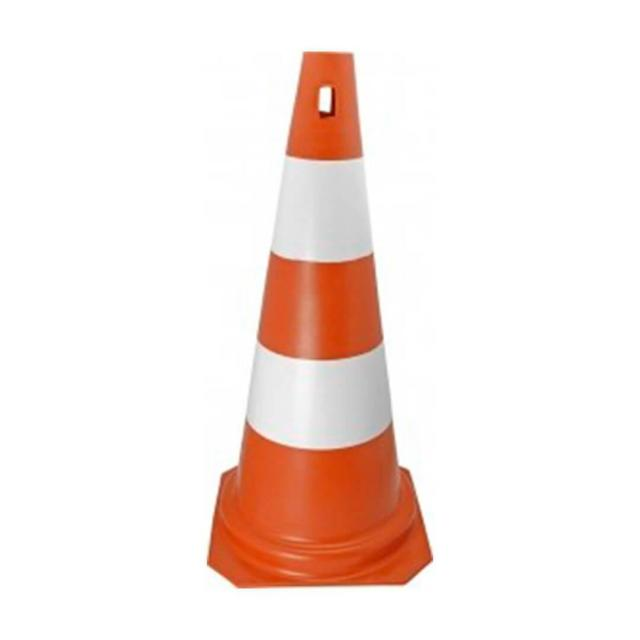cone: (202, 43, 449, 581)
